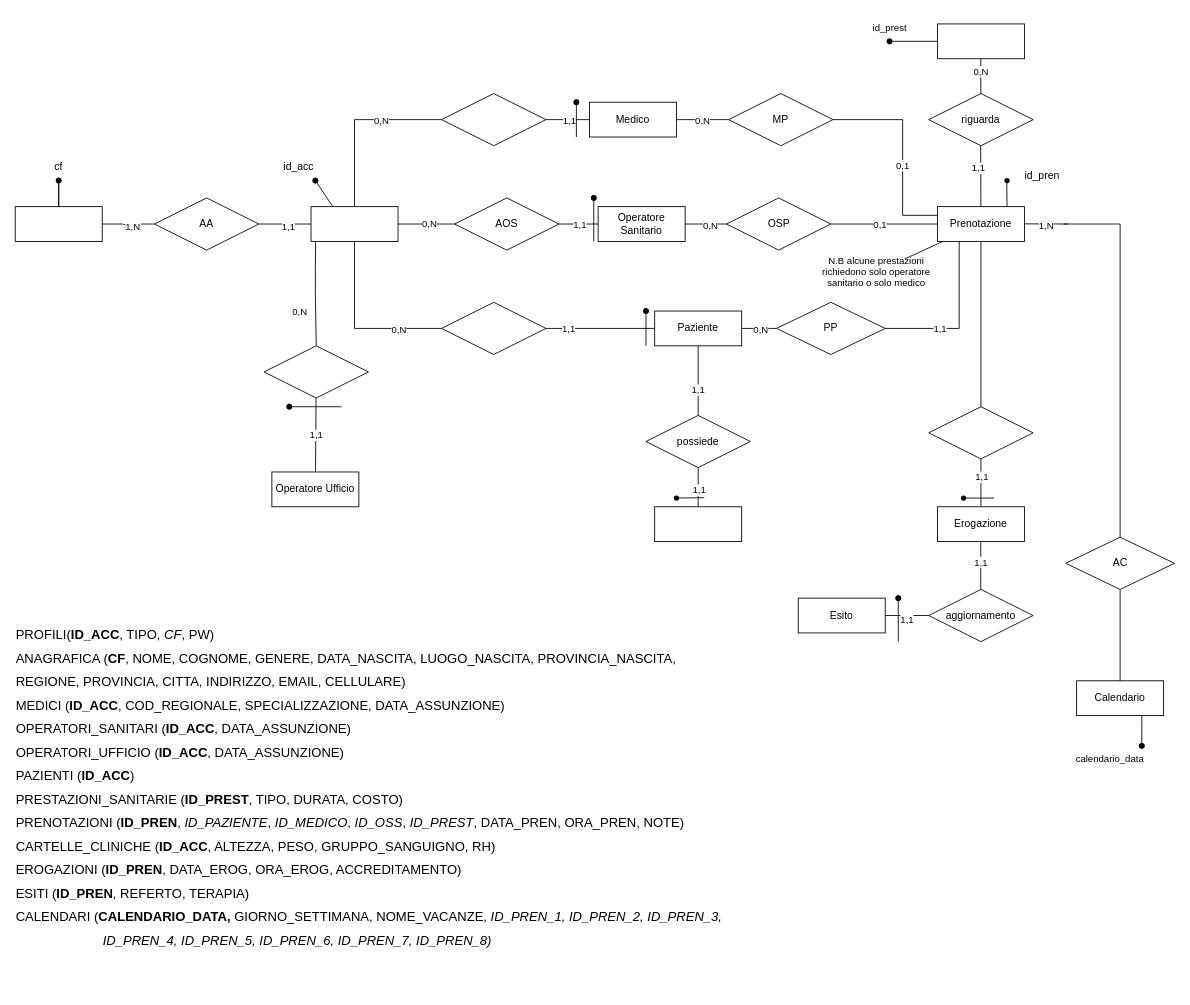
This 1190x1005 diagram has some shape labels left out. Each missing label, with the centre of its shape:
AM: the point at 493,119
Anagrafica: the point at 58,223
AOU: the point at 315,371
AP: the point at 493,328
attuazione: the point at 980,432
Cartella Clinica: the point at 698,524
Prestazione Sanitaria: the point at 980,41
Profilo: the point at 354,223
